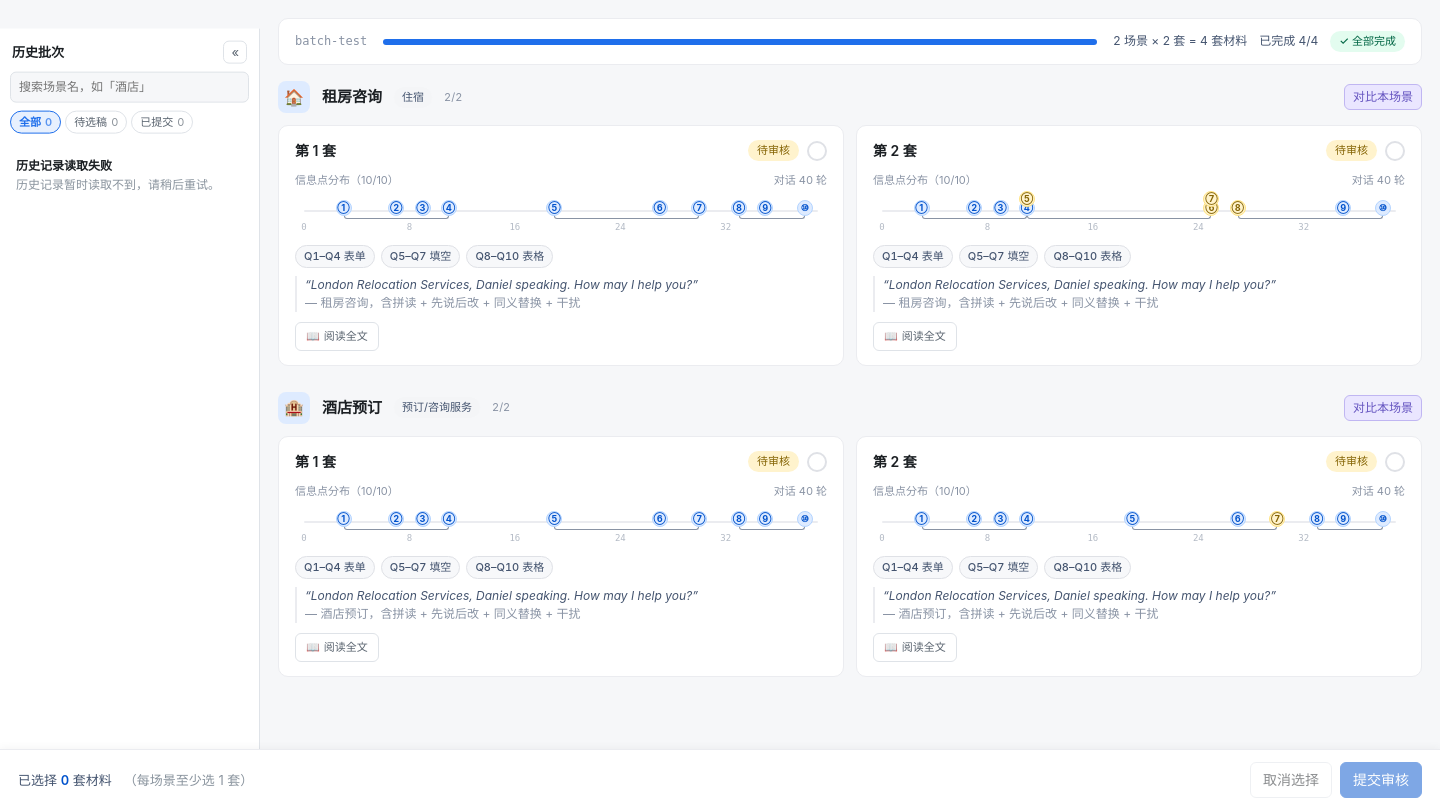
Scenario: compare mode › shows the purple banner with an A/B legend when entered
Expected: the text "对比模式" is not shown
Click the button "对比本场景" in the row of "住宿": (1383, 97) [1344,84,1422,110]
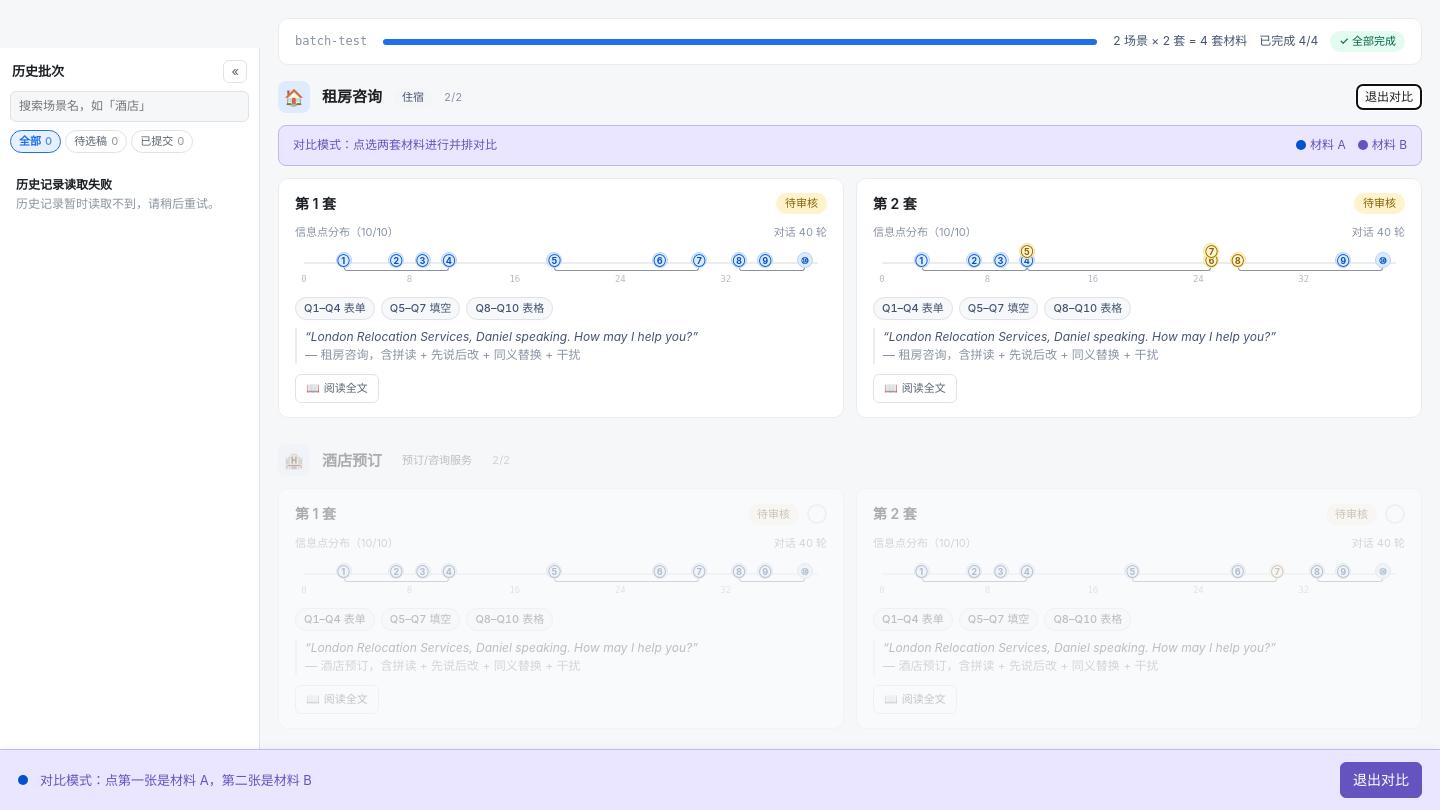
Expected: the text "对比模式：点选两套材料进行并排对比" is shown, [293,136,497,155]
Expected: the text "材料 A" is shown, [1296,136,1346,155]
Expected: the text "材料 B" is shown, [1358,136,1407,155]
